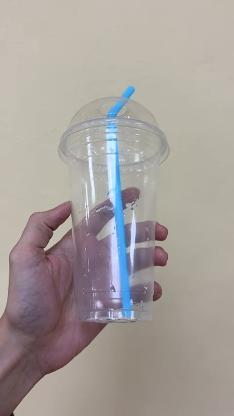Plastic Cup: (56, 93, 170, 323)
